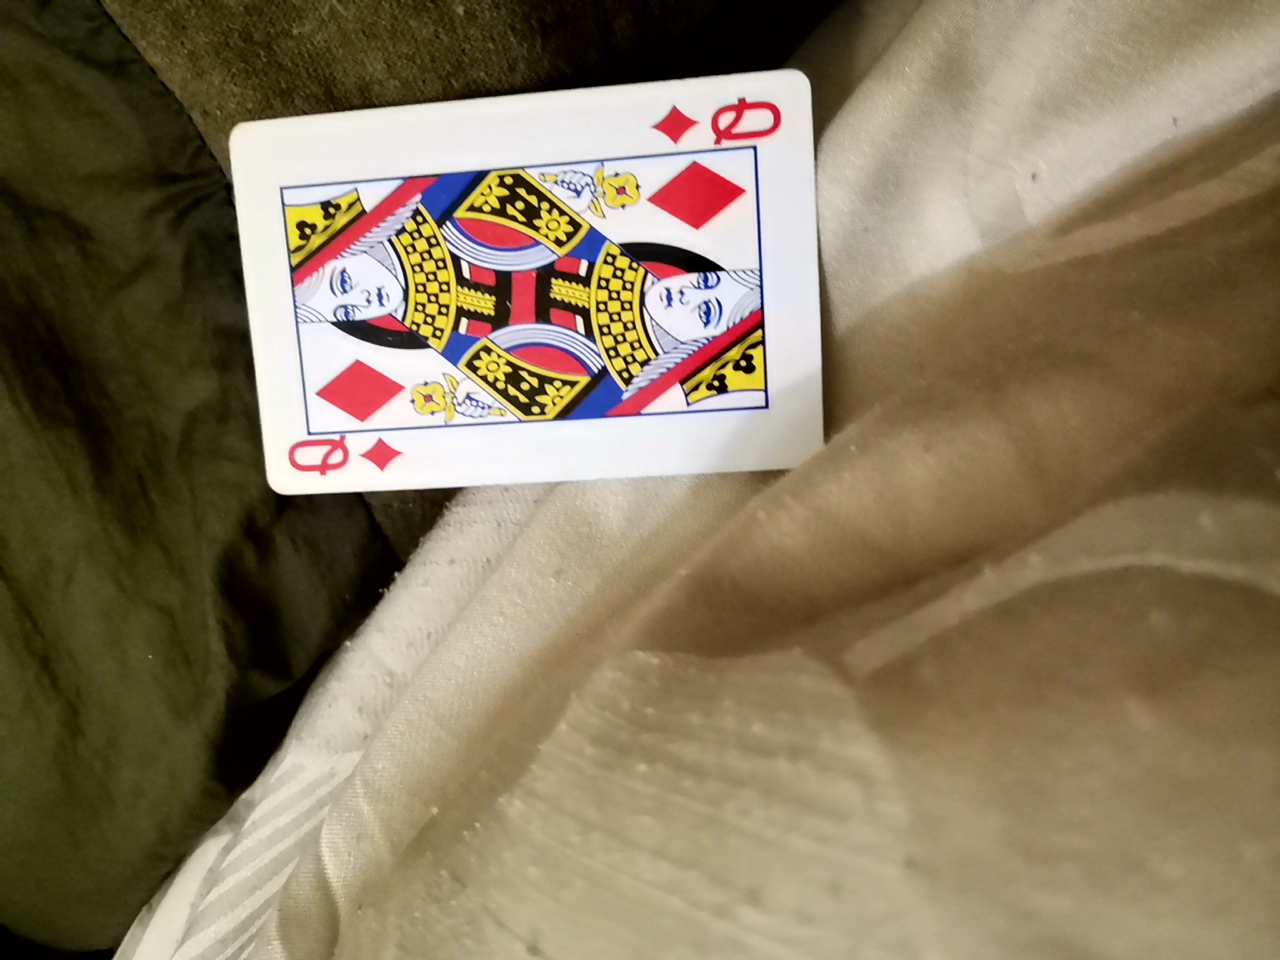fk q: (235, 71, 827, 501)
